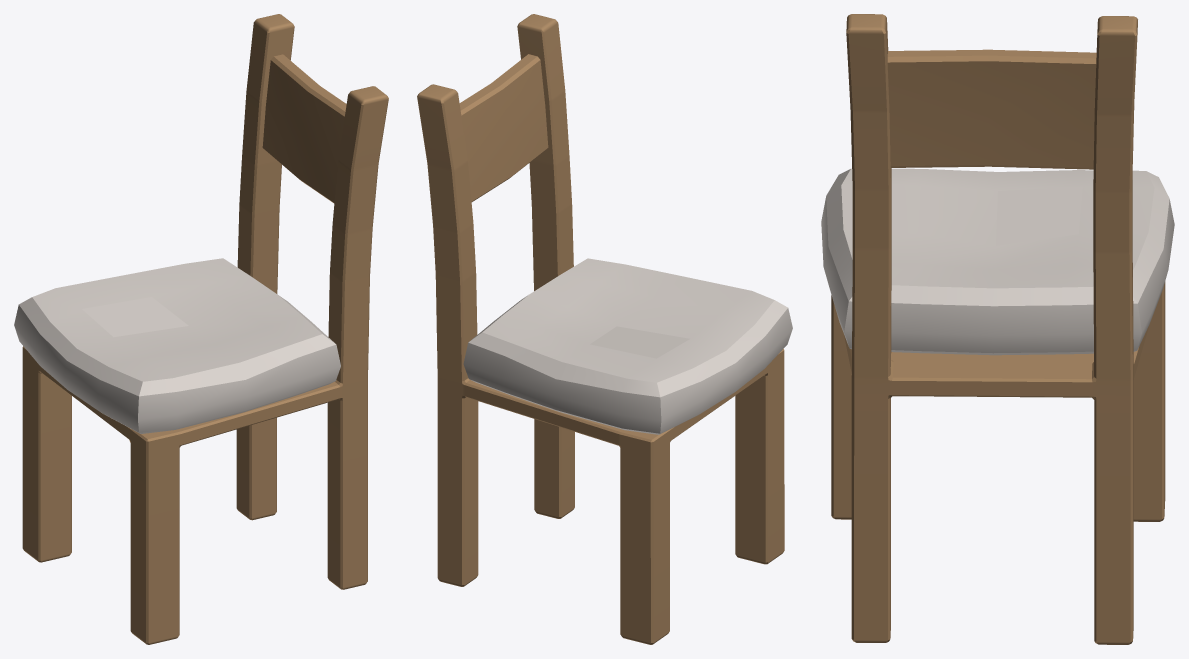
Rendered from Kitchen_Chair.fbx.
3 renders of one model, left to right at view 1: azimuth 30°, elevation 25°; view 2: azimuth 150°, elevation 25°; view 3: azimuth 270°, elevation 25°, orthographic. The views are drawn at different scales.
Visible parts, largest first — view 1: pasted__pCube4; view 2: pasted__pCube4; view 3: pasted__pCube4.
Part boxes in pixels (x1,y1,x2,y2): pasted__pCube4: (14, 14, 388, 644); pasted__pCube4: (417, 14, 792, 644); pasted__pCube4: (821, 14, 1174, 644).
Bounding box in the file's own units: 1.06 × 1.83 × 0.934.
